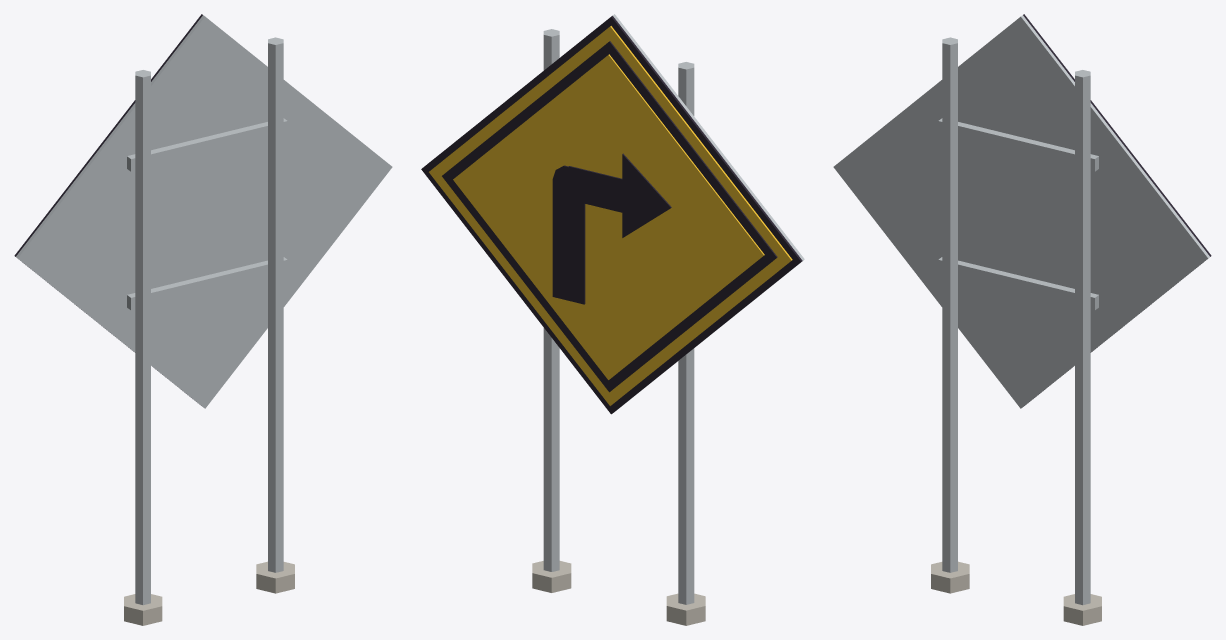
File: corner_warn_sharp_right.glb
3 renders of one model, left to right at view 1: azimuth 30°, elevation 25°; view 2: azimuth 150°, elevation 25°; view 3: azimuth 330°, elevation 25°, orthographic.
Parts seen in each view (by area): view 1: corner_warn_sharp_right; view 2: corner_warn_sharp_right; view 3: corner_warn_sharp_right.
Part boxes in pixels (x1,y1,x2,y2): corner_warn_sharp_right: (14, 14, 392, 625); corner_warn_sharp_right: (421, 14, 804, 625); corner_warn_sharp_right: (833, 14, 1211, 625).
Size of the model in its own units: 3.11 by 4.61 by 0.2996.
